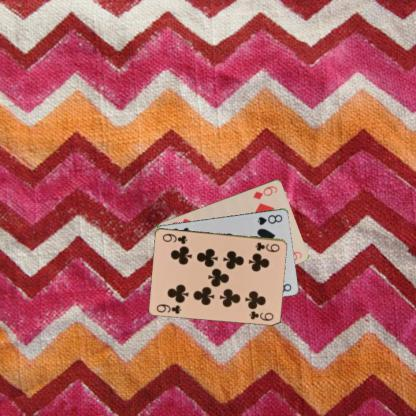6d: (251, 183, 278, 201)
8s: (254, 211, 284, 226)
9c: (154, 301, 182, 315), (253, 240, 281, 253)
